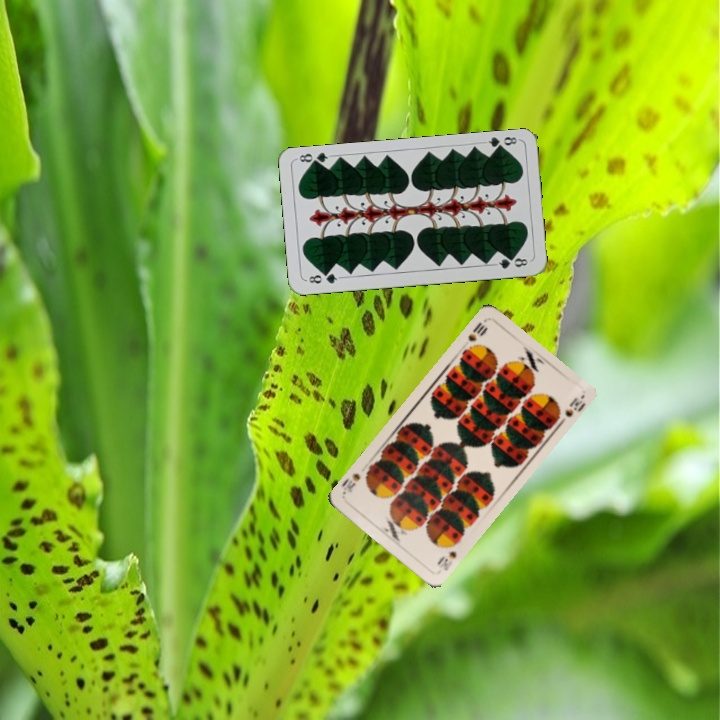G8: (480, 133, 521, 154), (303, 269, 343, 286)
S10: (433, 538, 461, 573), (464, 318, 490, 344)
